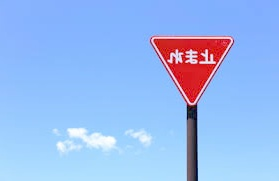Regulatory_sign_triangle: (145, 28, 238, 108)
